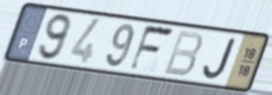4: (67, 16, 103, 68)
9: (36, 12, 73, 63), (105, 22, 136, 69)
B: (161, 29, 205, 79)
F: (126, 23, 178, 74)
J: (201, 36, 239, 82)
